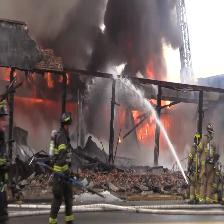fire: (120, 96, 175, 154), (0, 65, 79, 93), (124, 42, 173, 81), (10, 96, 71, 123)
smoke: (32, 2, 113, 56), (118, 3, 183, 37)
